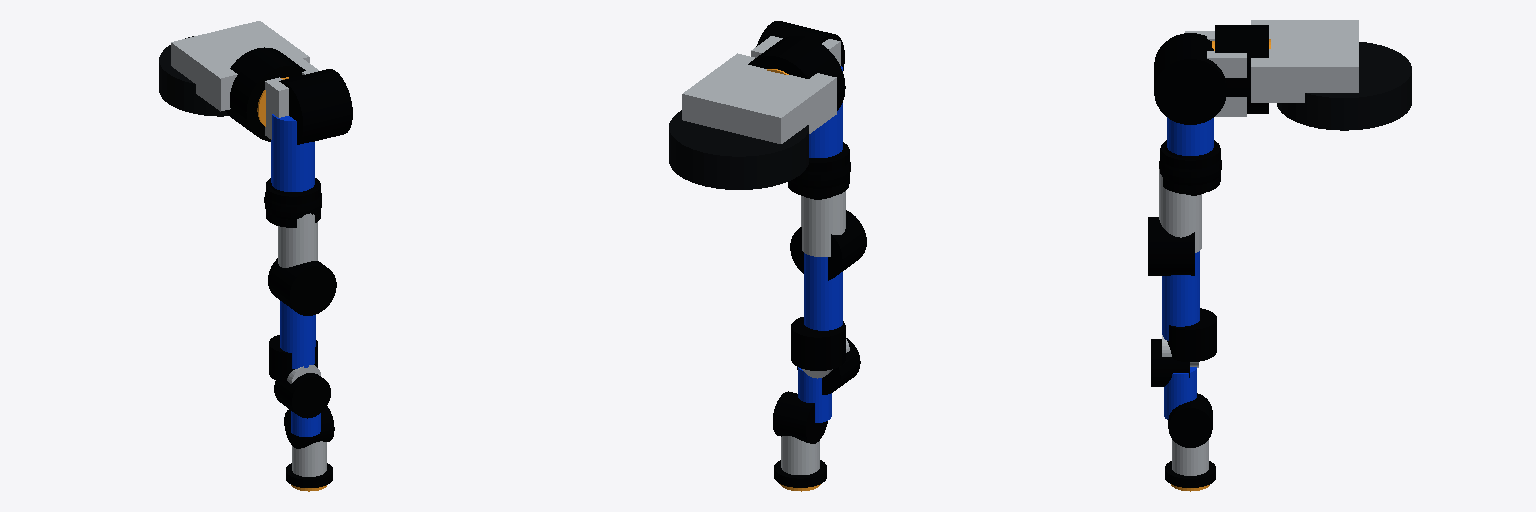
robot.urdf — a7_lite_right_visual:
<?xml version="1.0"?>
<robot name="a7_lite_right_visual">
  <material name="matte_graphite">
    <color rgba="0.16 0.17 0.19 1.0"/>
  </material>
  <material name="dark_graphite">
    <color rgba="0.06 0.07 0.08 1.0"/>
  </material>
  <material name="brushed_aluminum">
    <color rgba="0.72 0.74 0.76 1.0"/>
  </material>
  <material name="joint_black">
    <color rgba="0.02 0.025 0.03 1.0"/>
  </material>
  <material name="link_blue">
    <color rgba="0.05 0.28 0.85 1.0"/>
  </material>
  <material name="axis_gold">
    <color rgba="0.95 0.62 0.18 1.0"/>
  </material>
  <material name="tcp_green">
    <color rgba="0.0 0.8 0.35 1.0"/>
  </material>

  <link name="base_link">
    <visual>
      <origin xyz="0 0 -0.025" rpy="0 0 0"/>
      <geometry>
        <cylinder radius="0.095" length="0.05"/>
      </geometry>
      <material name="dark_graphite"/>
    </visual>
    <visual>
      <origin xyz="0 -0.055 0.012" rpy="0 0 0"/>
      <geometry>
        <box size="0.155 0.15 0.055"/>
      </geometry>
      <material name="brushed_aluminum"/>
    </visual>
    <visual>
      <origin xyz="0 -0.1435 0" rpy="1.5708 0 0"/>
      <geometry>
        <cylinder radius="0.062" length="0.075"/>
      </geometry>
      <material name="joint_black"/>
    </visual>
    <visual>
      <origin xyz="0 -0.1435 0" rpy="1.5708 0 0"/>
      <geometry>
        <cylinder radius="0.043" length="0.082"/>
      </geometry>
      <material name="axis_gold"/>
    </visual>
  </link>

  <link name="R1_Link">
    <visual>
      <origin xyz="0 0 0" rpy="1.5708 0 0"/>
      <geometry>
        <cylinder radius="0.058" length="0.06"/>
      </geometry>
      <material name="joint_black"/>
    </visual>
    <visual>
      <origin xyz="0.016 -0.037 0" rpy="1.5708 0 0"/>
      <geometry>
        <cylinder radius="0.035" length="0.082"/>
      </geometry>
      <material name="matte_graphite"/>
    </visual>
    <visual>
      <origin xyz="0.047 -0.036 0" rpy="0 0 0"/>
      <geometry>
        <box size="0.026 0.086 0.09"/>
      </geometry>
      <material name="brushed_aluminum"/>
    </visual>
    <visual>
      <origin xyz="-0.017 -0.036 0" rpy="0 0 0"/>
      <geometry>
        <box size="0.026 0.086 0.09"/>
      </geometry>
      <material name="brushed_aluminum"/>
    </visual>
    <visual>
      <origin xyz="0.03125 -0.0715 0" rpy="0 1.5708 0"/>
      <geometry>
        <cylinder radius="0.051" length="0.086"/>
      </geometry>
      <material name="joint_black"/>
    </visual>
  </link>
  <joint name="R1_JOINT" type="revolute">
    <origin xyz="0 -0.1435 0" rpy="0 0 0"/>
    <parent link="base_link"/>
    <child link="R1_Link"/>
    <axis xyz="0 1 0"/>
    <limit lower="-3.75" upper="2.18" effort="60" velocity="18.84"/>
  </joint>

  <link name="R2_Link">
    <visual>
      <origin xyz="0 0 0" rpy="0 1.5708 0"/>
      <geometry>
        <cylinder radius="0.048" length="0.08"/>
      </geometry>
      <material name="joint_black"/>
    </visual>
    <visual>
      <origin xyz="-0.03125 0 -0.0735" rpy="0 0 0"/>
      <geometry>
        <cylinder radius="0.033" length="0.147"/>
      </geometry>
      <material name="link_blue"/>
    </visual>
    <visual>
      <origin xyz="-0.03125 0 -0.0735" rpy="0 0 0"/>
      <geometry>
        <box size="0.055 0.034 0.136"/>
      </geometry>
      <material name="matte_graphite"/>
    </visual>
    <visual>
      <origin xyz="-0.03125 0 -0.147" rpy="0 0 0"/>
      <geometry>
        <sphere radius="0.044"/>
      </geometry>
      <material name="joint_black"/>
    </visual>
  </link>
  <joint name="R2_JOINT" type="revolute">
    <origin xyz="0.03125 -0.0715 0" rpy="0 0 0"/>
    <parent link="R1_Link"/>
    <child link="R2_Link"/>
    <axis xyz="-1 0 0"/>
    <limit lower="-0.19" upper="3.33" effort="60" velocity="18.84"/>
  </joint>

  <link name="R3_Link">
    <visual>
      <origin xyz="0 0 0" rpy="0 0 0"/>
      <geometry>
        <cylinder radius="0.042" length="0.052"/>
      </geometry>
      <material name="joint_black"/>
    </visual>
    <visual>
      <origin xyz="0 -0.0135 -0.063" rpy="0 0 0"/>
      <geometry>
        <cylinder radius="0.03" length="0.126"/>
      </geometry>
      <material name="brushed_aluminum"/>
    </visual>
    <visual>
      <origin xyz="0 -0.0135 -0.063" rpy="0 0 0"/>
      <geometry>
        <box size="0.05 0.03 0.116"/>
      </geometry>
      <material name="matte_graphite"/>
    </visual>
    <visual>
      <origin xyz="0 -0.027 -0.126" rpy="1.5708 0 0"/>
      <geometry>
        <cylinder radius="0.041" length="0.066"/>
      </geometry>
      <material name="joint_black"/>
    </visual>
  </link>
  <joint name="R3_JOINT" type="revolute">
    <origin xyz="-0.03125 0 -0.147" rpy="0 0 0"/>
    <parent link="R2_Link"/>
    <child link="R3_Link"/>
    <axis xyz="0 0 1"/>
    <limit lower="-2.26" upper="2.26" effort="17" velocity="37.68"/>
  </joint>

  <link name="R4_Link">
    <visual>
      <origin xyz="0 0 0" rpy="1.5708 0 0"/>
      <geometry>
        <cylinder radius="0.04" length="0.062"/>
      </geometry>
      <material name="joint_black"/>
    </visual>
    <visual>
      <origin xyz="0 0.0135 -0.068" rpy="0 0 0"/>
      <geometry>
        <cylinder radius="0.027" length="0.136"/>
      </geometry>
      <material name="link_blue"/>
    </visual>
    <visual>
      <origin xyz="0 0.0135 -0.068" rpy="0 0 0"/>
      <geometry>
        <box size="0.046 0.027 0.123"/>
      </geometry>
      <material name="matte_graphite"/>
    </visual>
    <visual>
      <origin xyz="0 0.027 -0.136" rpy="0 0 0"/>
      <geometry>
        <cylinder radius="0.037" length="0.05"/>
      </geometry>
      <material name="joint_black"/>
    </visual>
  </link>
  <joint name="R4_JOINT" type="revolute">
    <origin xyz="0 -0.027 -0.126" rpy="0 0 0"/>
    <parent link="R3_Link"/>
    <child link="R4_Link"/>
    <axis xyz="0 1 0"/>
    <limit lower="-1.74" upper="0.78" effort="36" velocity="10.47"/>
  </joint>

  <link name="R5_Link">
    <visual>
      <origin xyz="0 0 0" rpy="0 0 0"/>
      <geometry>
        <cylinder radius="0.036" length="0.046"/>
      </geometry>
      <material name="joint_black"/>
    </visual>
    <visual>
      <origin xyz="0 -0.014 -0.02175" rpy="1.5708 0 0"/>
      <geometry>
        <cylinder radius="0.026" length="0.052"/>
      </geometry>
      <material name="brushed_aluminum"/>
    </visual>
    <visual>
      <origin xyz="0 -0.028 -0.0435" rpy="1.5708 0 0"/>
      <geometry>
        <cylinder radius="0.034" length="0.054"/>
      </geometry>
      <material name="joint_black"/>
    </visual>
    <visual>
      <origin xyz="0 -0.014 -0.022" rpy="0 0 0"/>
      <geometry>
        <box size="0.044 0.024 0.065"/>
      </geometry>
      <material name="matte_graphite"/>
    </visual>
  </link>
  <joint name="R5_JOINT" type="revolute">
    <origin xyz="0 0.027 -0.136" rpy="0 0 0"/>
    <parent link="R4_Link"/>
    <child link="R5_Link"/>
    <axis xyz="0 0 1"/>
    <limit lower="-2.96" upper="2.96" effort="14" velocity="27.21"/>
  </joint>

  <link name="R6_Link">
    <visual>
      <origin xyz="0 0 0" rpy="1.5708 0 0"/>
      <geometry>
        <cylinder radius="0.034" length="0.052"/>
      </geometry>
      <material name="joint_black"/>
    </visual>
    <visual>
      <origin xyz="0.014 0.014 -0.0375" rpy="0 0 0"/>
      <geometry>
        <cylinder radius="0.023" length="0.075"/>
      </geometry>
      <material name="link_blue"/>
    </visual>
    <visual>
      <origin xyz="0.014 0.014 -0.0375" rpy="0 0 0"/>
      <geometry>
        <box size="0.035 0.028 0.066"/>
      </geometry>
      <material name="matte_graphite"/>
    </visual>
    <visual>
      <origin xyz="0.028 0.028 -0.075" rpy="0 1.5708 0"/>
      <geometry>
        <cylinder radius="0.031" length="0.052"/>
      </geometry>
      <material name="joint_black"/>
    </visual>
  </link>
  <joint name="R6_JOINT" type="revolute">
    <origin xyz="0 -0.028 -0.0435" rpy="0 0 0"/>
    <parent link="R5_Link"/>
    <child link="R6_Link"/>
    <axis xyz="0 1 0"/>
    <limit lower="-1.57" upper="1.57" effort="14" velocity="27.21"/>
  </joint>

  <link name="R7_Link">
    <visual>
      <origin xyz="0 0 0" rpy="0 1.5708 0"/>
      <geometry>
        <cylinder radius="0.031" length="0.05"/>
      </geometry>
      <material name="joint_black"/>
    </visual>
    <visual>
      <origin xyz="0 0 -0.04" rpy="0 0 0"/>
      <geometry>
        <cylinder radius="0.026" length="0.08"/>
      </geometry>
      <material name="brushed_aluminum"/>
    </visual>
    <visual>
      <origin xyz="0 0 -0.081" rpy="0 0 0"/>
      <geometry>
        <cylinder radius="0.036" length="0.014"/>
      </geometry>
      <material name="joint_black"/>
    </visual>
    <visual>
      <origin xyz="0 0 -0.091" rpy="0 0 0"/>
      <geometry>
        <cylinder radius="0.028" length="0.012"/>
      </geometry>
      <material name="axis_gold"/>
    </visual>
  </link>
  <joint name="R7_JOINT" type="revolute">
    <origin xyz="0.028 0.028 -0.075" rpy="0 0 0"/>
    <parent link="R6_Link"/>
    <child link="R7_Link"/>
    <axis xyz="-1 0 0"/>
    <limit lower="-1.57" upper="1.57" effort="14" velocity="27.21"/>
  </joint>

  <link name="tcp_link">
    <visual>
      <origin xyz="0 0 0" rpy="0 0 0"/>
      <geometry>
        <sphere radius="0.018"/>
      </geometry>
      <material name="tcp_green"/>
    </visual>
    <visual>
      <origin xyz="0 0 0.018" rpy="0 0 0"/>
      <geometry>
        <cylinder radius="0.018" length="0.036"/>
      </geometry>
      <material name="tcp_green"/>
    </visual>
  </link>
  <joint name="tcp_fixed_joint" type="fixed">
    <origin xyz="0 0 -0.08" rpy="0 0 0"/>
    <parent link="R7_Link"/>
    <child link="tcp_link"/>
  </joint>
</robot>

--- What the picture shows (computed from the rendered views, not written in the file) ---
The picture shows the robot from 3 angles, left to right: view 1: azimuth 30°, elevation 25°; view 2: azimuth 150°, elevation 25°; view 3: azimuth 270°, elevation 25°; orthographic projection.
Model a7_lite_right_visual with 9 links and 8 joints (7 revolute, 1 fixed), rooted at base_link, posed every joint at zero.
Visible links, largest first — view 1: base_link, R3_Link, R1_Link, R2_Link, R4_Link, R7_Link, R5_Link, R6_Link; view 2: base_link, R3_Link, R4_Link, R6_Link, R7_Link, R2_Link, R1_Link, R5_Link; view 3: base_link, R1_Link, R3_Link, R4_Link, R6_Link, R2_Link, R7_Link, R5_Link.
Boxes of the visible links, bbox=[...] form: base_link: bbox=[159, 21, 309, 141]; R3_Link: bbox=[266, 178, 336, 315]; R1_Link: bbox=[265, 58, 352, 144]; R2_Link: bbox=[264, 114, 321, 219]; R4_Link: bbox=[269, 301, 317, 382]; R7_Link: bbox=[286, 407, 333, 491]; R5_Link: bbox=[274, 365, 330, 418]; R6_Link: bbox=[274, 374, 334, 448]; base_link: bbox=[669, 36, 845, 189]; R3_Link: bbox=[788, 142, 866, 280]; R4_Link: bbox=[791, 253, 845, 370]; R6_Link: bbox=[773, 348, 859, 443]; R7_Link: bbox=[774, 392, 826, 491]; R2_Link: bbox=[791, 66, 850, 199]; R1_Link: bbox=[751, 21, 844, 70]; R5_Link: bbox=[797, 338, 860, 394]; base_link: bbox=[1212, 20, 1411, 130]; R1_Link: bbox=[1154, 31, 1246, 124]; R3_Link: bbox=[1148, 140, 1220, 275]; R4_Link: bbox=[1162, 251, 1216, 361]; R6_Link: bbox=[1152, 351, 1212, 447]; R2_Link: bbox=[1159, 117, 1221, 195]; R7_Link: bbox=[1165, 394, 1215, 491]; R5_Link: bbox=[1151, 335, 1198, 386].
Size in the robot's own frame: 0.19 by 0.37 by 0.6875 metres.
Geometry: primitives only (box / cylinder / sphere), no mesh files.
